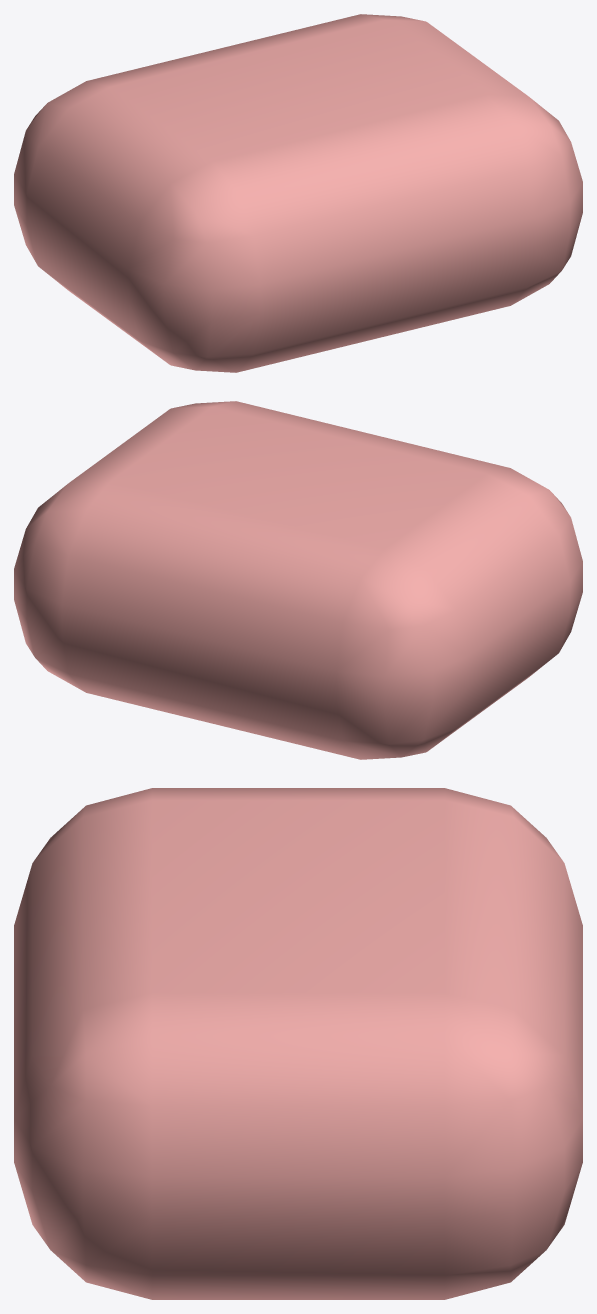
Rendered from sofaPillow.glb.
3 views of the same model, one above another, from view 1: azimuth 30°, elevation 25°; view 2: azimuth 150°, elevation 25°; view 3: azimuth 270°, elevation 25° (orthographic). The views are drawn at different scales.
Visible parts, largest first — view 1: Pillow; view 2: Pillow; view 3: Pillow.
Boxes of the visible parts, x1,y1,x2,y2 form: Pillow: (14, 14, 582, 372); Pillow: (14, 401, 582, 759); Pillow: (14, 788, 582, 1299).
Size of the model in its own units: 0.9 by 0.4 by 0.7.
